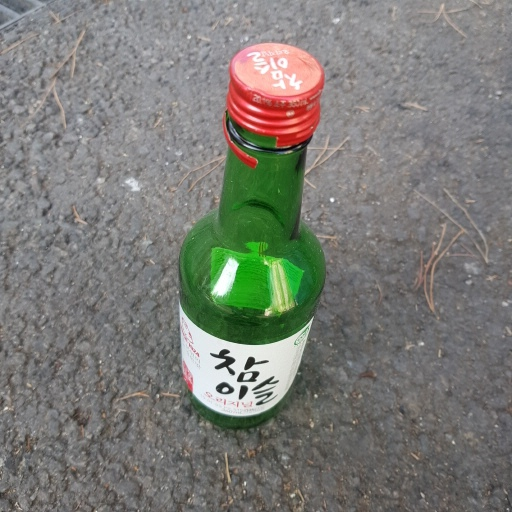Glass_0: (163, 40, 328, 430)
